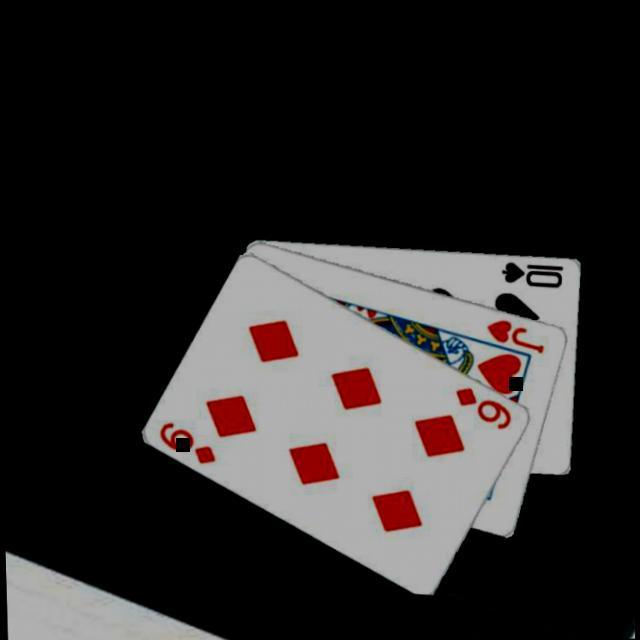10S: (496, 252, 565, 288)
6D: (450, 378, 514, 430), (154, 414, 218, 466)
JH: (482, 310, 546, 353)
